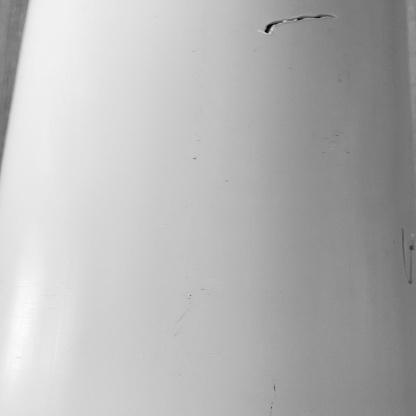fengxi: (264, 13, 337, 34)
